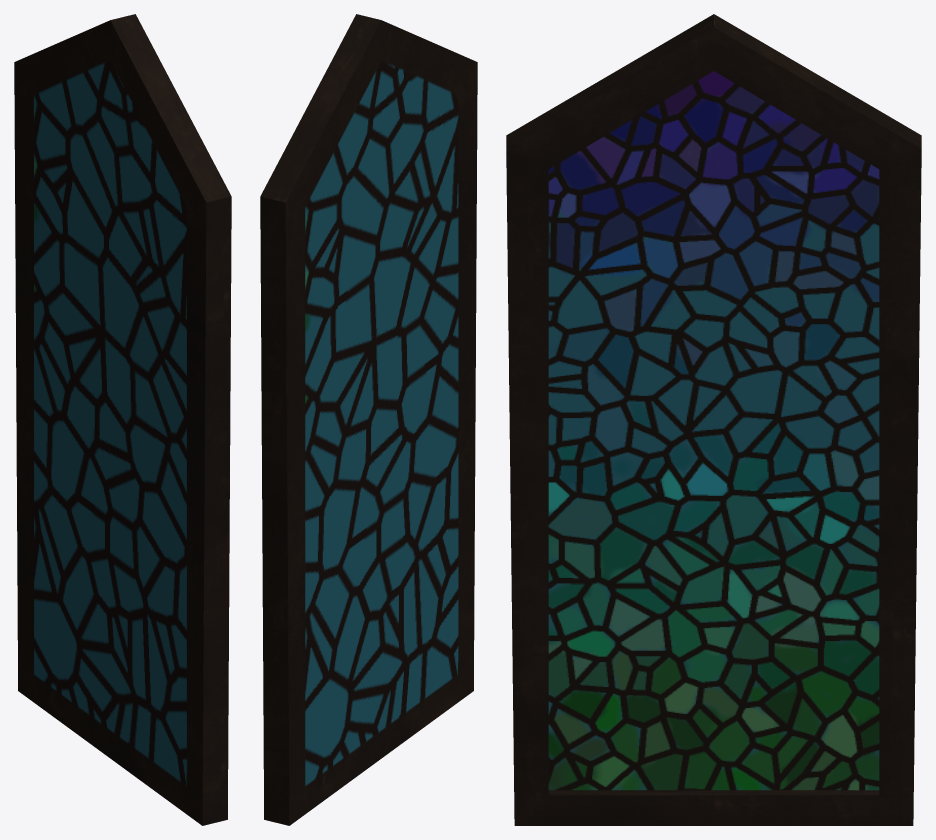
The model's file is stained_glass_window.glb.
3 views of the same model, side by side, from view 1: azimuth 30°, elevation 25°; view 2: azimuth 150°, elevation 25°; view 3: azimuth 270°, elevation 25° (orthographic). The views are drawn at different scales.
Visible parts, largest first — view 1: Cube; view 2: Cube; view 3: Cube.
Part boxes in pixels (<box>): Cube: <box>14,14,231,825</box>; Cube: <box>260,14,477,825</box>; Cube: <box>506,14,921,825</box>.
Bounding box in the file's own units: 0.1957 × 5.33 × 2.51.
Materials: 1 (1 with a texture image).
